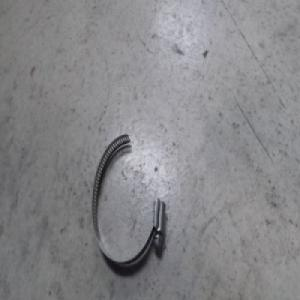AdjustableClamp: (91, 133, 166, 264)
